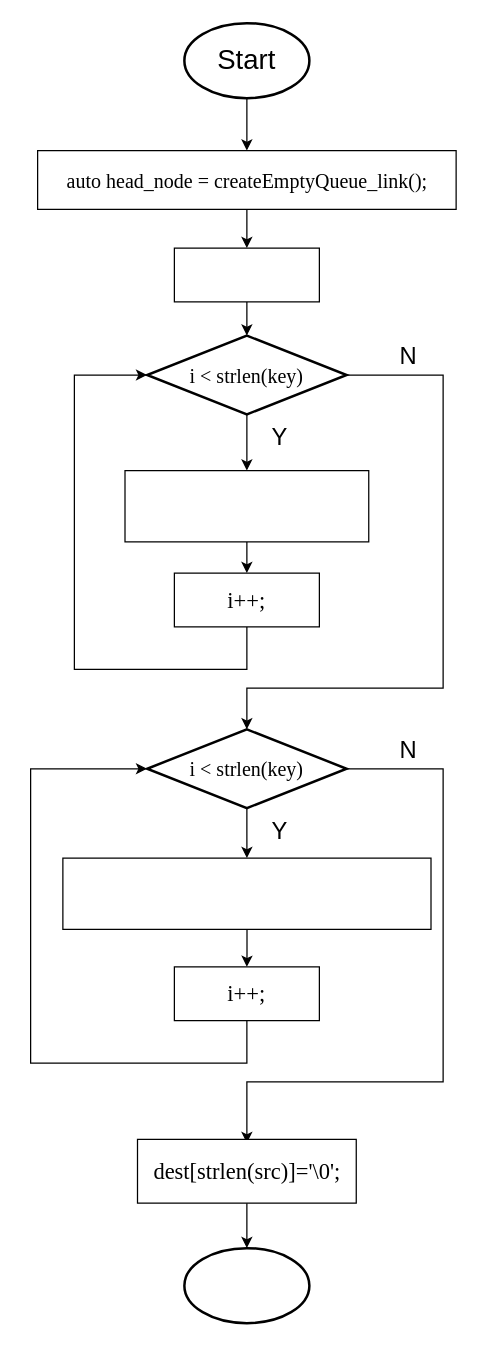
This 479x1345 diagram has some shape labels left out. The centre of each missing label's shape, as x and y in pixels:
"dest[i]=(char)(src[i]+(deQueue_link(queue)-'0');" belongs at [246,893].
"End" belongs at [246,1285].
"enQueue_link(key[i], queue);" belongs at [246,505].
"int i =0;" belongs at [246,274].
